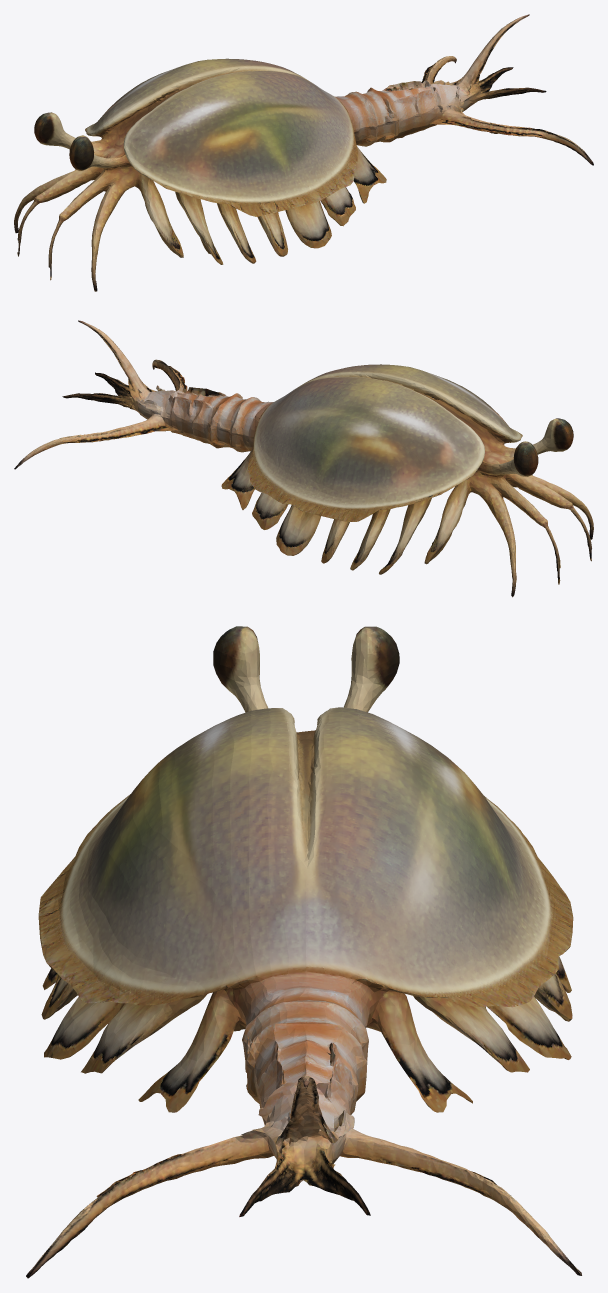
3 renders of one model, top to bottom at view 1: azimuth 30°, elevation 25°; view 2: azimuth 150°, elevation 25°; view 3: azimuth 270°, elevation 25°, orthographic. The views are drawn at different scales.
Parts seen in each view (by area): view 1: world; view 2: world; view 3: world.
Part boxes in pixels (left/top/right/bottom): world: left=14, top=14, right=593, bottom=291; world: left=14, top=320, right=593, bottom=597; world: left=26, top=626, right=581, bottom=1278.
Size of the model in its own units: 0.035 by 0.0102 by 0.017.
1 material, 1 textured.
